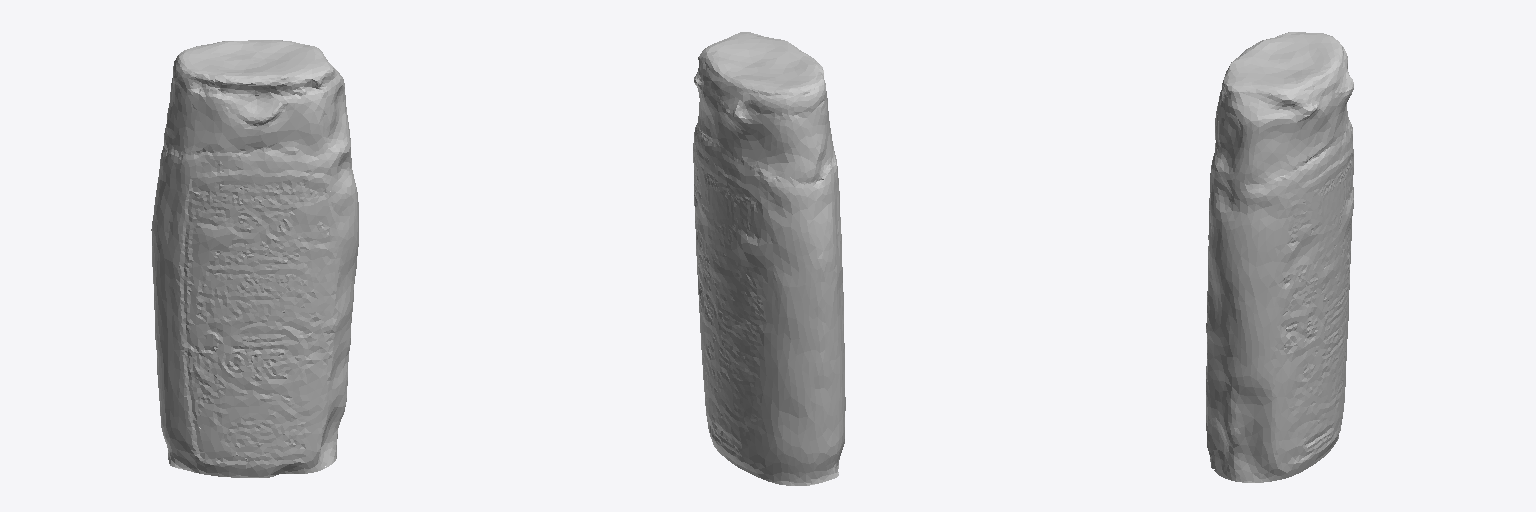
Rendered from honey.obj.
3 views of the same model, side by side, from view 1: azimuth 30°, elevation 25°; view 2: azimuth 150°, elevation 25°; view 3: azimuth 270°, elevation 25° (orthographic).
Parts seen in each view (by area): view 1: Mesh_0; view 2: Mesh_0; view 3: Mesh_0.
Boxes of the visible parts, <box> form: Mesh_0: <box>151,40,358,477</box>; Mesh_0: <box>693,32,845,485</box>; Mesh_0: <box>1206,32,1353,482</box>.
Bounding box in the file's own units: 0.0601 × 0.1368 × 0.0467.